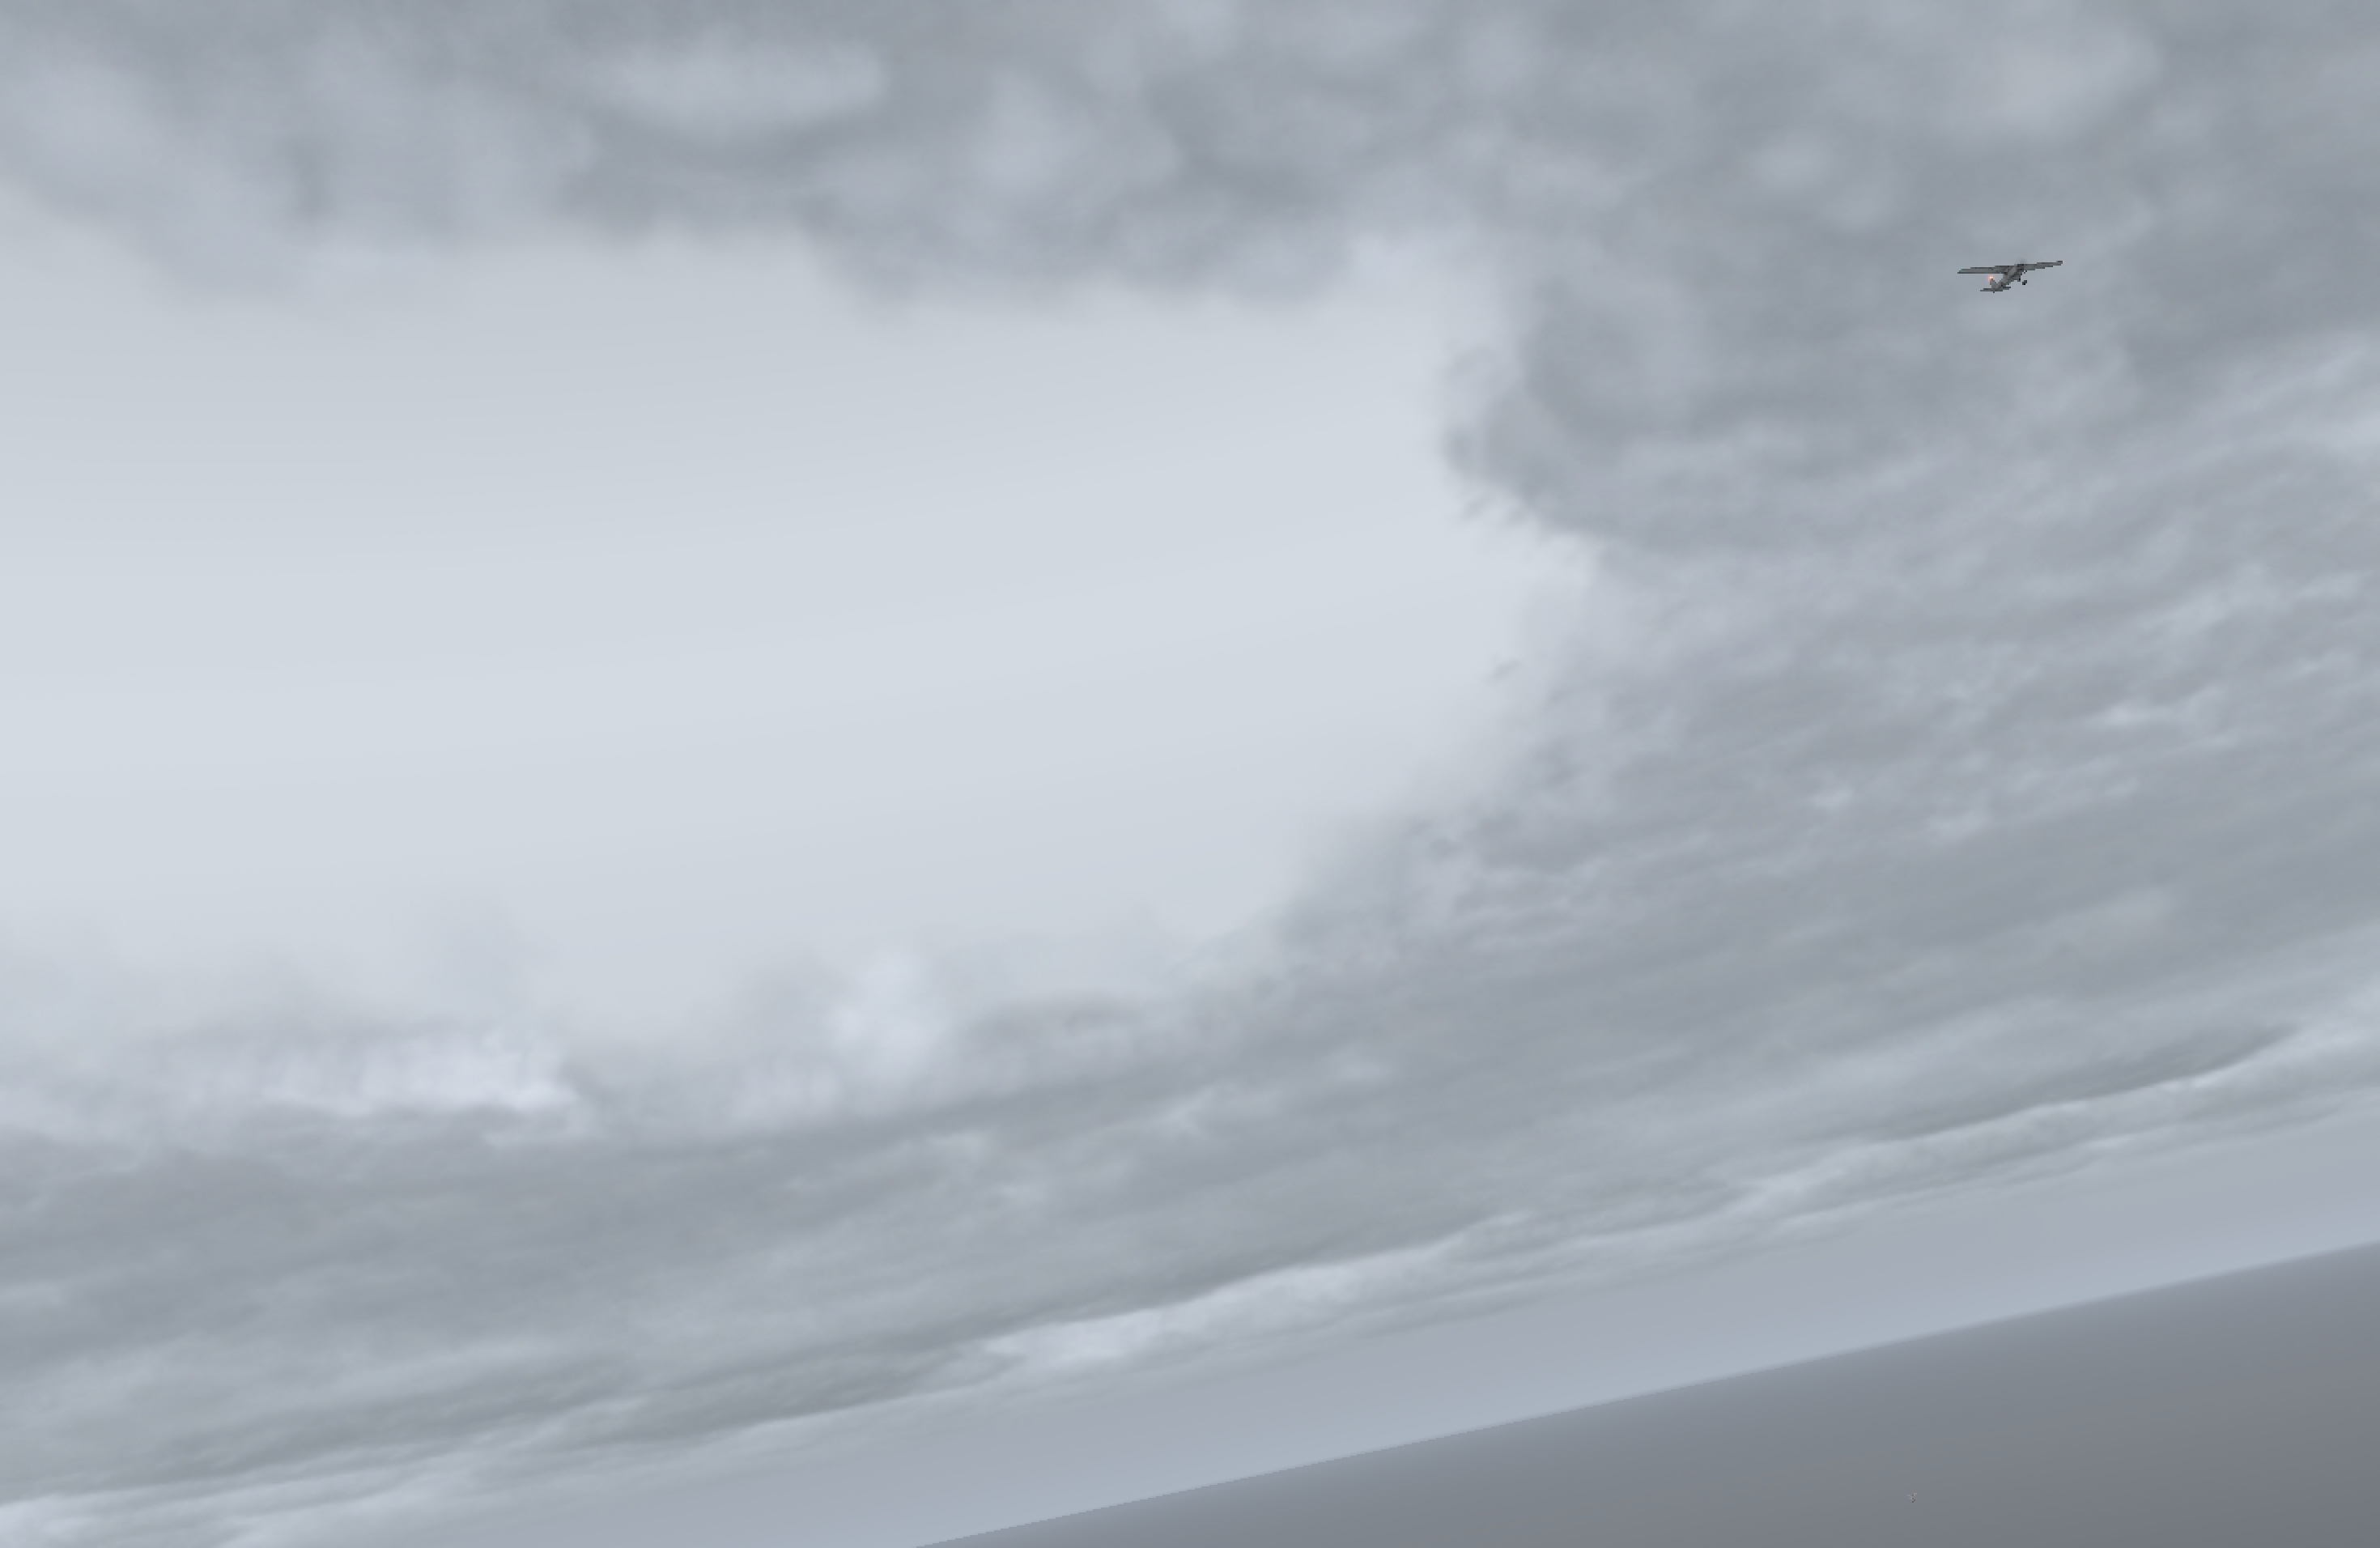aircraft: (1979, 260, 2047, 285)
